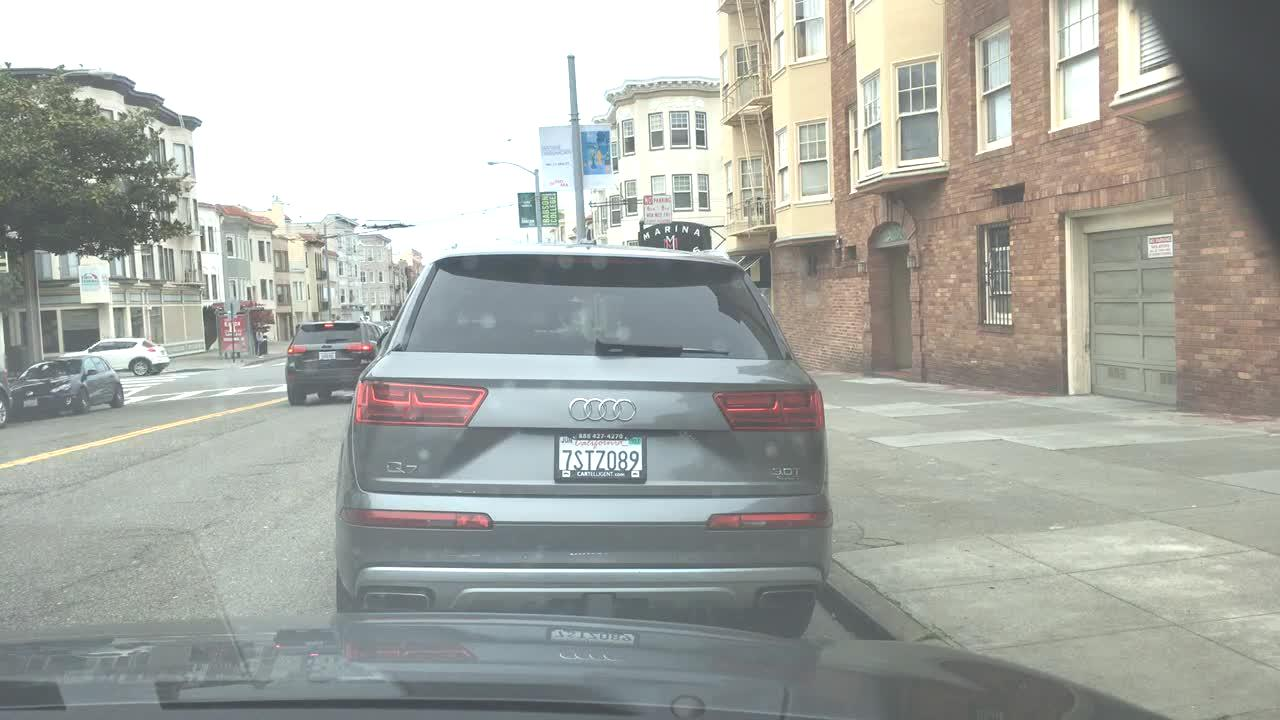Audi: (562, 393, 643, 426)
